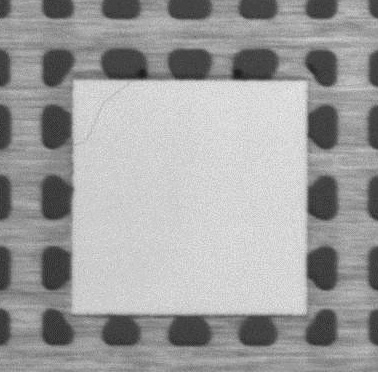DIE_CRACK: (74, 84, 129, 146)
